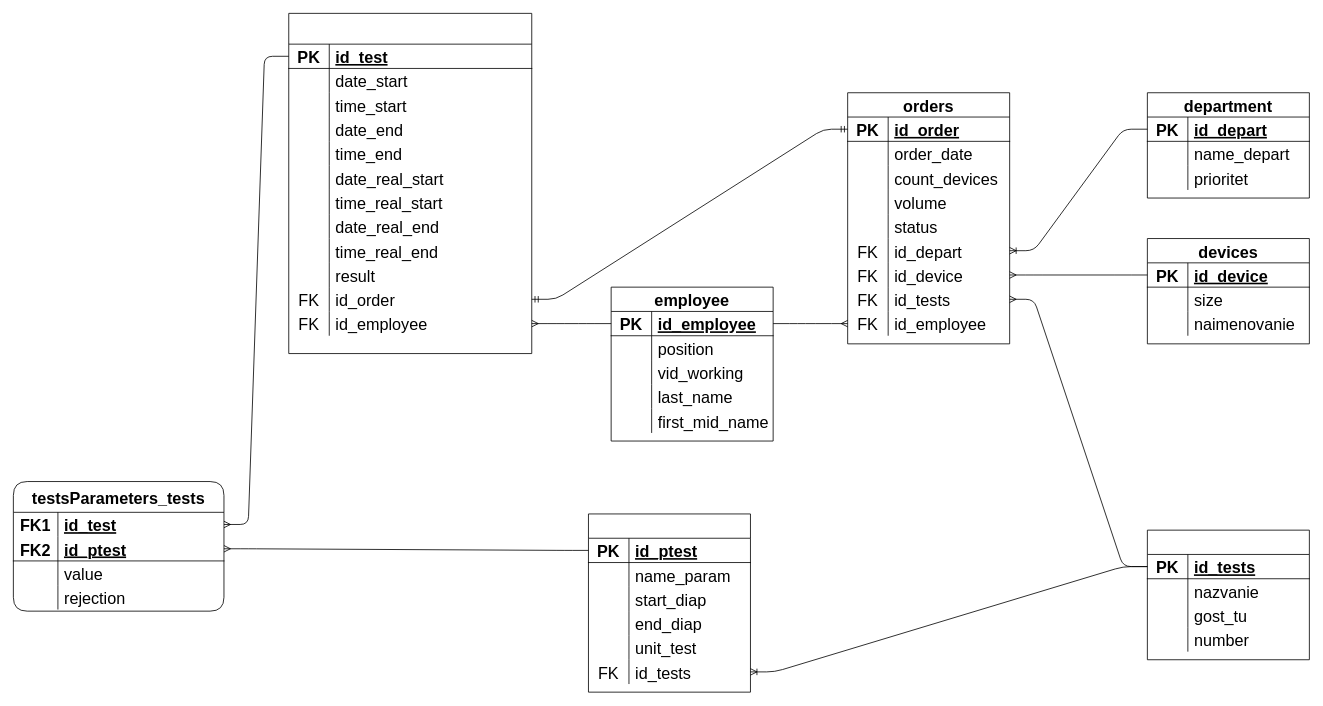
Some shapes in this 1323 by 706 pixel diagram are drawn without their labels. Here are the shapes that lost their labels. From the top down, the box of each, then its label:
(288, 13, 532, 354): tests
(588, 513, 750, 692): parameters_tests
(1147, 529, 1309, 660): type_of_tests
